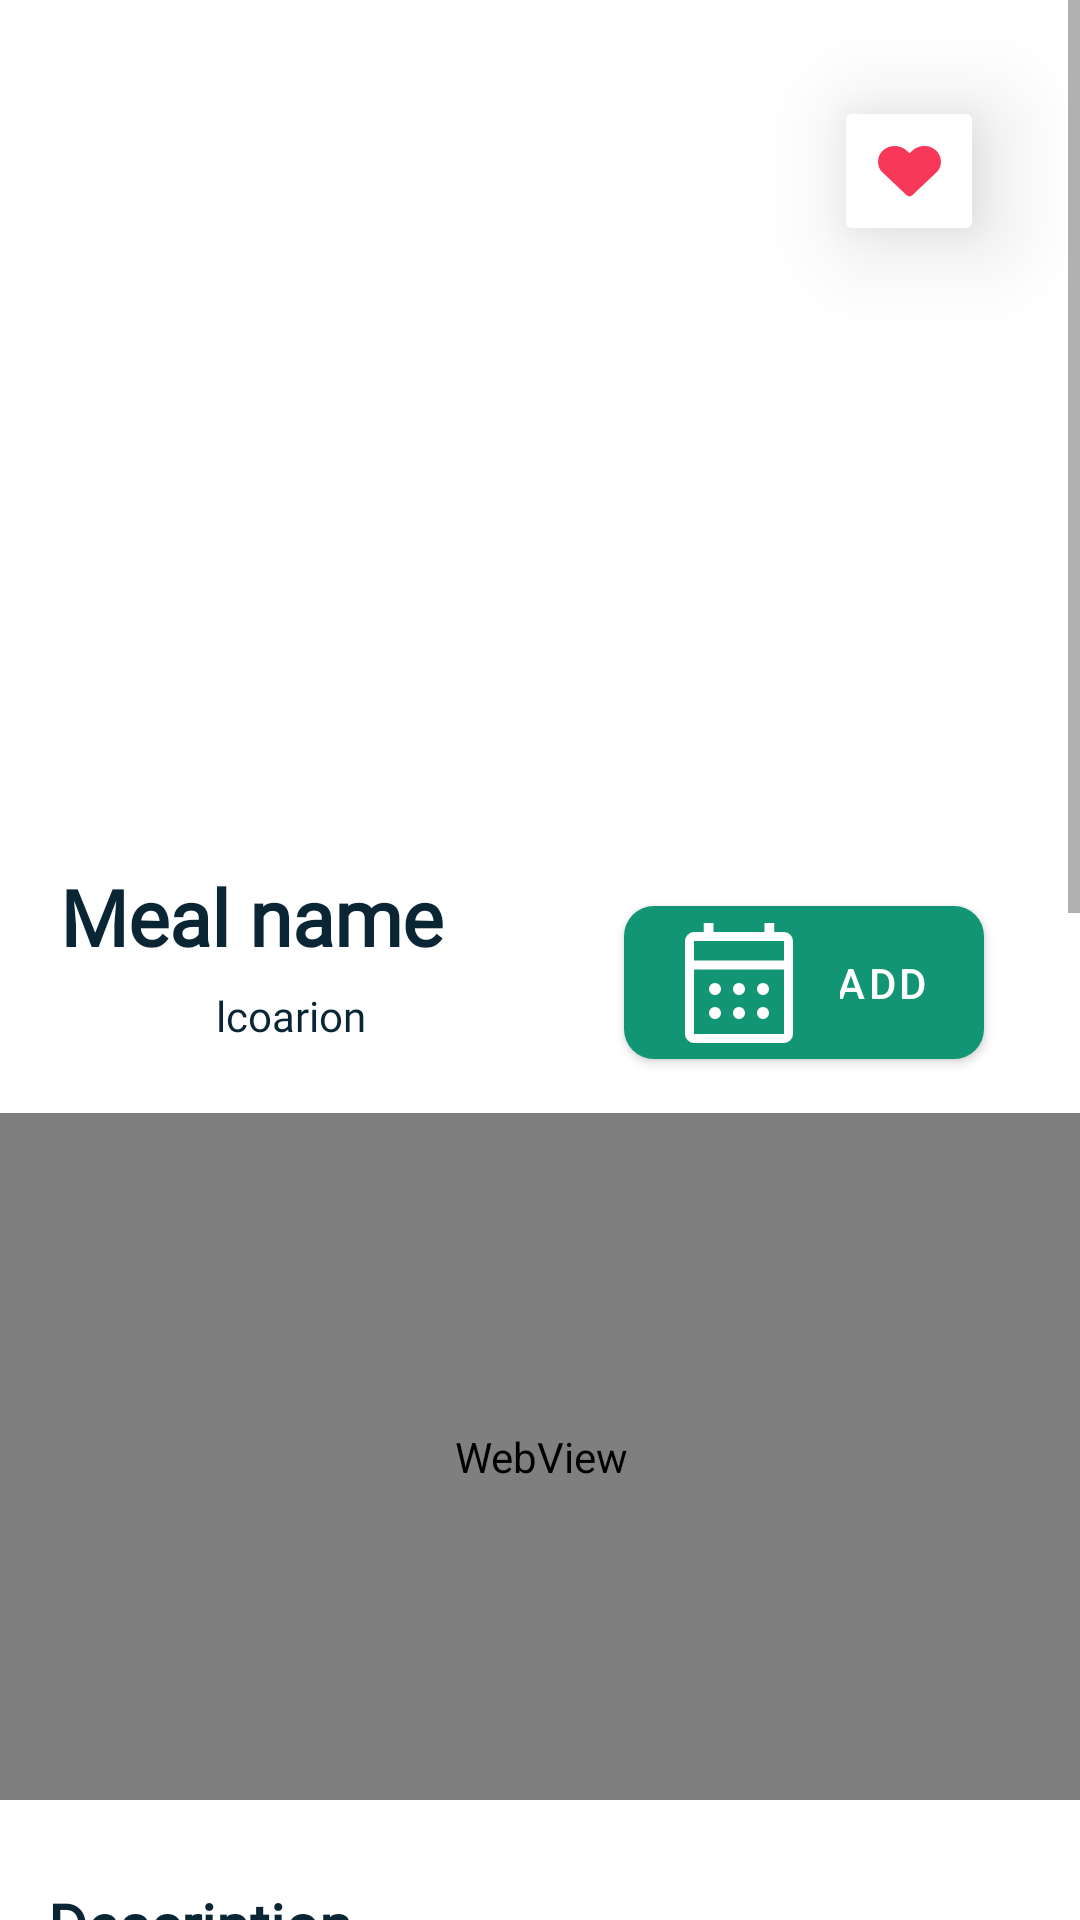

Named icons in this screenshot (1080px×1920px) and their bounding boxes, {"x1": x1, "y1": y1, "x2": x2, "y2": y2}:
heart: {"x1": 878, "y1": 146, "x2": 941, "y2": 197}
